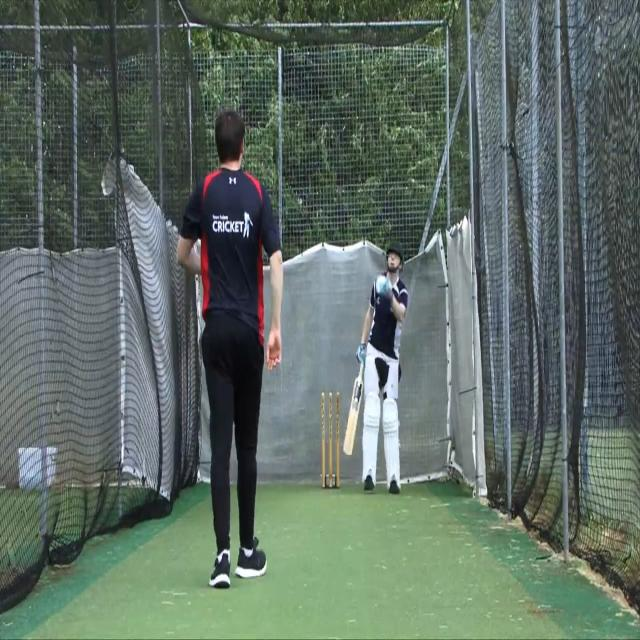batsman: (342, 238, 409, 496)
